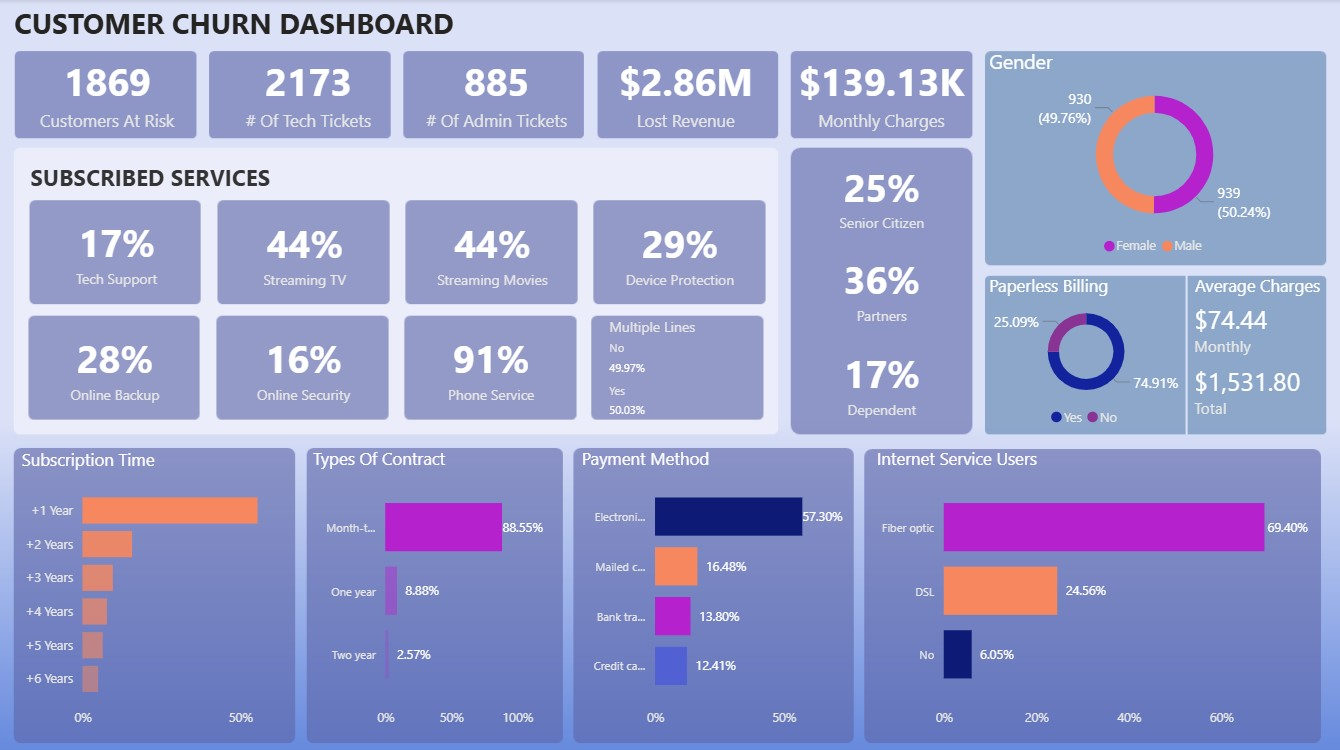

What the dashboard file says about the page in this screenshot:
{"tool":"powerbi","page":{"name":"Churn Dashboard","canvas":[1280,720],"ordinal":0},"visuals":[{"type":"textbox","box":[9.5,0,520.2,46.4],"z":0},{"type":"card","fields":{"Values":["Count(01 Churn-Dataset.customerID)"]},"box":[22.6,46.7,161.2,85.9],"z":1000},{"type":"card","fields":{"Values":["01 Churn-Dataset.# Of Admin Tickets"]},"box":[399.2,46.7,150.6,85.9],"z":2000},{"type":"card","fields":{"Values":["01 Churn-Dataset.# Of Tech Tickets"]},"box":[213.9,46.7,161.2,85.9],"z":3000},{"type":"card","fields":{"Values":["Sum(01 Churn-Dataset.TotalCharges)"]},"box":[576.9,46.7,153.6,85.9],"z":4000},{"type":"card","fields":{"Values":["Sum(01 Churn-Dataset.MonthlyCharges)"]},"box":[754.6,46.7,171.7,85.9],"z":5000},{"type":"donutChart","title":"Gender","fields":{"Y":["CountNonNull(01 Churn-Dataset.customerID)"],"Category":["01 Churn-Dataset.gender"]},"box":[938.4,46.7,325.3,207],"z":6000},{"type":"card","fields":{"Values":["01 Churn-Dataset.Tech Support"]},"box":[39,198.7,145.9,84.3],"z":7000},{"type":"card","fields":{"Values":["01 Churn-Dataset.Streaming TV"]},"box":[218.8,200,145,84.3],"z":8000},{"type":"card","fields":{"Values":["01 Churn-Dataset.Streaming Movies"]},"box":[397.4,200,145,84.3],"z":9000},{"type":"card","fields":{"Values":["01 Churn-Dataset.Device Protection"]},"box":[576,200,145,84.3],"z":10000},{"type":"card","fields":{"Values":["01 Churn-Dataset.Online Backup"]},"box":[37.7,309.4,145,84.3],"z":11000},{"type":"card","fields":{"Values":["01 Churn-Dataset.Online Security"]},"box":[217.6,309.4,145,84.3],"z":12000},{"type":"card","fields":{"Values":["01 Churn-Dataset.Phone Service"]},"box":[396.1,309.4,145,84.3],"z":13000},{"type":"multiRowCard","title":"Multiple Lines","fields":{"Values":["01 Churn-Dataset.MultipleLines","CountNonNull(01 Churn-Dataset.MultipleLines)"]},"box":[576,301.8,144.6,125.8],"z":14000},{"type":"card","fields":{"Values":["01 Churn-Dataset.Senior Citizen"]},"box":[765.9,147.1,150.9,80.5],"z":15000},{"type":"card","fields":{"Values":["01 Churn-Dataset.Partners"]},"box":[765.9,235.2,150.9,80.5],"z":16000},{"type":"card","fields":{"Values":["01 Churn-Dataset.Dependent"]},"box":[765.9,323.2,150.9,85.5],"z":17000},{"type":"clusteredBarChart","title":"Payment Method","fields":{"Category":["01 Churn-Dataset.PaymentMethod"],"Y":["CountNonNull(01 Churn-Dataset.PaymentMethod)"]},"box":[549.6,426.3,270.4,276.7],"z":18000},{"type":"clusteredBarChart","title":"Subscription Time","fields":{"Category":["01 Churn-Dataset.Subscription Time"],"Y":["CountNonNull(01 Churn-Dataset.Subscription Time)"]},"box":[16.3,427.6,260.3,275.4],"z":19000},{"type":"donutChart","title":"Paperless Billing","fields":{"Y":["CountNonNull(01 Churn-Dataset.customerID)"],"Category":["01 Churn-Dataset.PaperlessBilling"]},"box":[938.2,261.6,194.9,154.7],"z":20000},{"type":"clusteredBarChart","title":"Internet Service Users","fields":{"Category":["01 Churn-Dataset.InternetService"],"Y":["CountNonNull(01 Churn-Dataset.InternetService)"]},"box":[831.3,426.3,432.6,276.7],"z":21000},{"type":"clusteredBarChart","title":"Types Of Contract","fields":{"Category":["01 Churn-Dataset.Contract"],"Y":["CountNonNull(01 Churn-Dataset.Contract)"]},"box":[294.3,426.3,244,276.7],"z":22000},{"type":"multiRowCard","title":"Average Charges","fields":{"Values":["Avg(01 Churn-Dataset.MonthlyCharges)","Avg(01 Churn-Dataset.TotalCharges)"]},"box":[1133.1,261.6,130.8,154.7],"z":23000},{"type":"textbox","box":[25,150,265.5,40.5],"z":24000}]}

Visuals, with their boxes in screenshot pixels (x1, y1, x2, y2), scaled from the page's 1280x720 canvas onto the 1340x750 screenshot:
textbox: 10/0/555/48
card - Count(01 Churn-Dataset.customerID): 24/49/192/138
card - 01 Churn-Dataset.# Of Admin Tickets: 418/49/576/138
card - 01 Churn-Dataset.# Of Tech Tickets: 224/49/393/138
card - Sum(01 Churn-Dataset.TotalCharges): 604/49/765/138
card - Sum(01 Churn-Dataset.MonthlyCharges): 790/49/970/138
"Gender" donutChart: 982/49/1323/264
card - 01 Churn-Dataset.Tech Support: 41/207/194/295
card - 01 Churn-Dataset.Streaming TV: 229/208/381/296
card - 01 Churn-Dataset.Streaming Movies: 416/208/568/296
card - 01 Churn-Dataset.Device Protection: 603/208/755/296
card - 01 Churn-Dataset.Online Backup: 39/322/191/410
card - 01 Churn-Dataset.Online Security: 228/322/380/410
card - 01 Churn-Dataset.Phone Service: 415/322/566/410
"Multiple Lines" multiRowCard: 603/314/754/445
card - 01 Churn-Dataset.Senior Citizen: 802/153/960/237
card - 01 Churn-Dataset.Partners: 802/245/960/329
card - 01 Churn-Dataset.Dependent: 802/337/960/426
"Payment Method" clusteredBarChart: 575/444/858/732
"Subscription Time" clusteredBarChart: 17/445/290/732
"Paperless Billing" donutChart: 982/273/1186/434
"Internet Service Users" clusteredBarChart: 870/444/1323/732
"Types Of Contract" clusteredBarChart: 308/444/564/732
"Average Charges" multiRowCard: 1186/273/1323/434
textbox: 26/156/304/198
